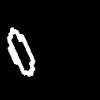chain: (7, 27, 34, 75)
